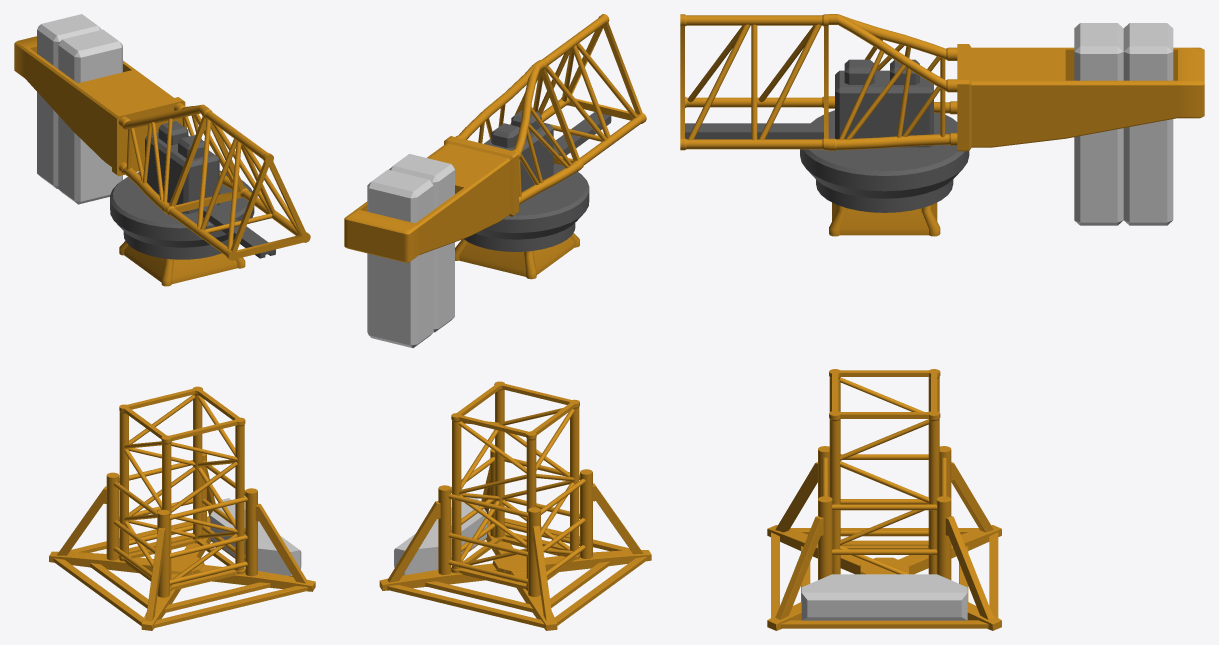
The model's file is crane.fbx.
The picture shows the model from 3 angles, left to right: view 1: azimuth 30°, elevation 25°; view 2: azimuth 150°, elevation 25°; view 3: azimuth 270°, elevation 25°; orthographic projection. The views are drawn at different scales.
Parts seen in each view (by area): view 1: crane_top, crane_base, crane_vertical_section, crane_horizontal_section, crane_vertical_cap, crane_weight_base; view 2: crane_top, crane_base, crane_vertical_section, crane_horizontal_section, crane_vertical_cap, crane_weight_base; view 3: crane_top, crane_base, crane_horizontal_section, crane_vertical_section, crane_weight_base, crane_vertical_cap.
Part boxes in pixels (x1=…): crane_top: x1=14, y1=14, x2=254, y2=259; crane_base: x1=49, y1=453, x2=315, y2=630; crane_vertical_section: x1=119, y1=386, x2=245, y2=591; crane_horizontal_section: x1=165, y1=108, x2=310, y2=260; crane_vertical_cap: x1=119, y1=241, x2=245, y2=286; crane_weight_base: x1=210, y1=498, x2=301, y2=575; crane_top: x1=344, y1=61, x2=589, y2=348; crane_base: x1=379, y1=448, x2=651, y2=630; crane_vertical_section: x1=451, y1=381, x2=579, y2=590; crane_horizontal_section: x1=510, y1=14, x2=646, y2=167; crane_vertical_cap: x1=455, y1=233, x2=579, y2=279; crane_weight_base: x1=394, y1=497, x2=486, y2=574; crane_top: x1=800, y1=14, x2=1204, y2=225; crane_base: x1=767, y1=446, x2=1001, y2=630; crane_horizontal_section: x1=680, y1=14, x2=828, y2=150; crane_vertical_section: x1=829, y1=369, x2=940, y2=574; crane_weight_base: x1=801, y1=574, x2=967, y2=620; crane_vertical_cap: x1=829, y1=202, x2=940, y2=236.
Size of the model in its own units: 4.75 by 12.64 by 10.6.
